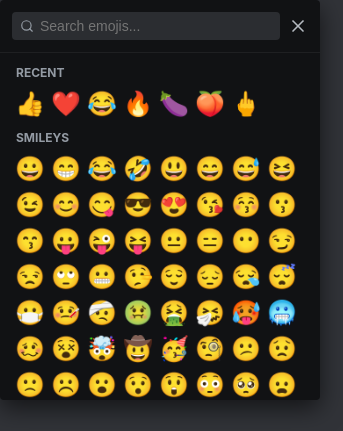
Test case: EmojiPicker › search field filters visible emojis
Type "😈" into the field with placeholder "Search emojis..." at point(146, 26), box x1=12 y1=12 x2=280 y2=40
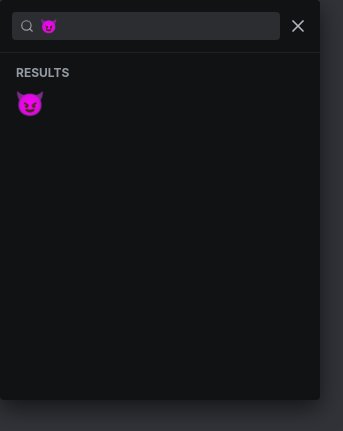
Result: the text "results" is shown at x1=16 y1=65 x2=69 y2=80
Result: the text "smileys" is gone
